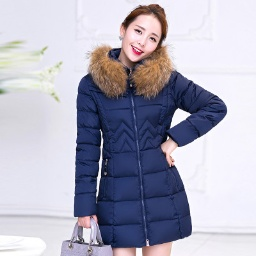face: (115, 3, 169, 62)
